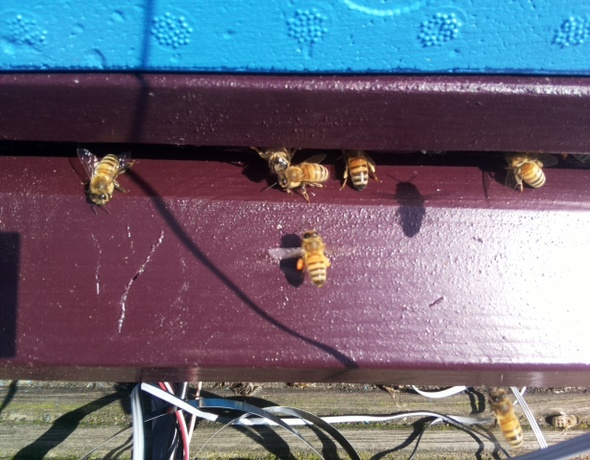no_pollen: (482, 384, 526, 450), (82, 148, 125, 209), (500, 150, 552, 198), (275, 160, 331, 204), (258, 144, 295, 175)
pollen: (291, 227, 334, 290), (336, 148, 382, 194)
